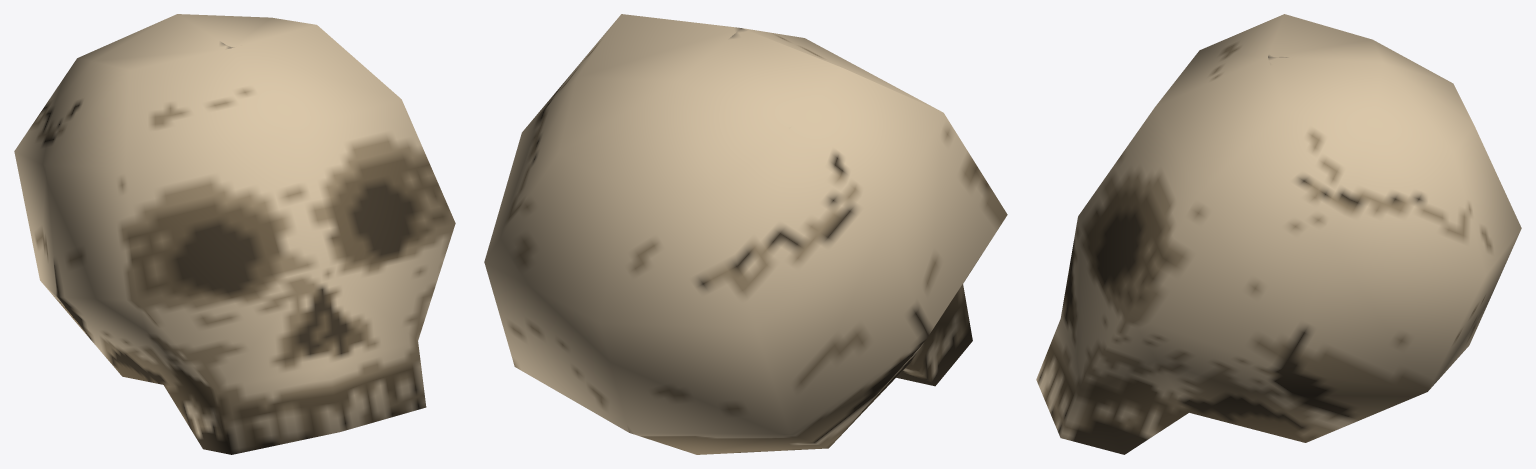
File: onlyskull.FBX
3 views of the same model, side by side, from view 1: azimuth 30°, elevation 25°; view 2: azimuth 150°, elevation 25°; view 3: azimuth 270°, elevation 25° (orthographic). The views are drawn at different scales.
Parts seen in each view (by area): view 1: skull; view 2: skull; view 3: skull.
Boxes of the visible parts, <box> form: skull: <box>14,14,455,454</box>; skull: <box>484,14,1007,454</box>; skull: <box>1036,14,1521,454</box>.
Size of the model in its own units: 22.89 by 22.02 by 27.47.
